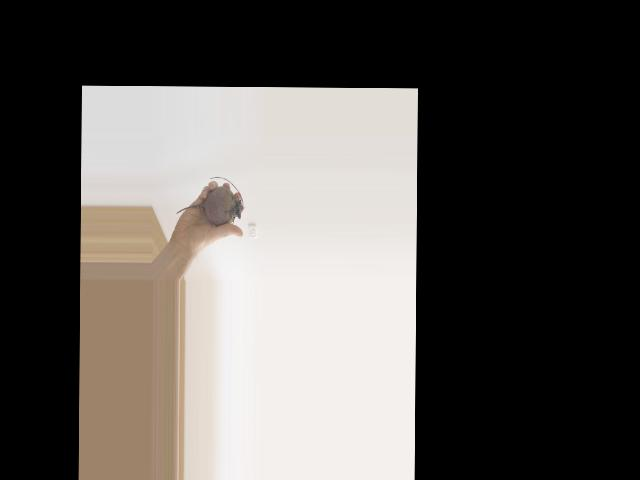beet: (176, 175, 244, 224)
